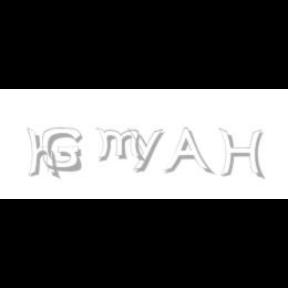A: (163, 128, 211, 176)
G: (42, 128, 82, 172)
H: (218, 128, 264, 180)
h: (26, 128, 62, 180)
m: (95, 128, 147, 162)
y: (127, 128, 167, 172)
